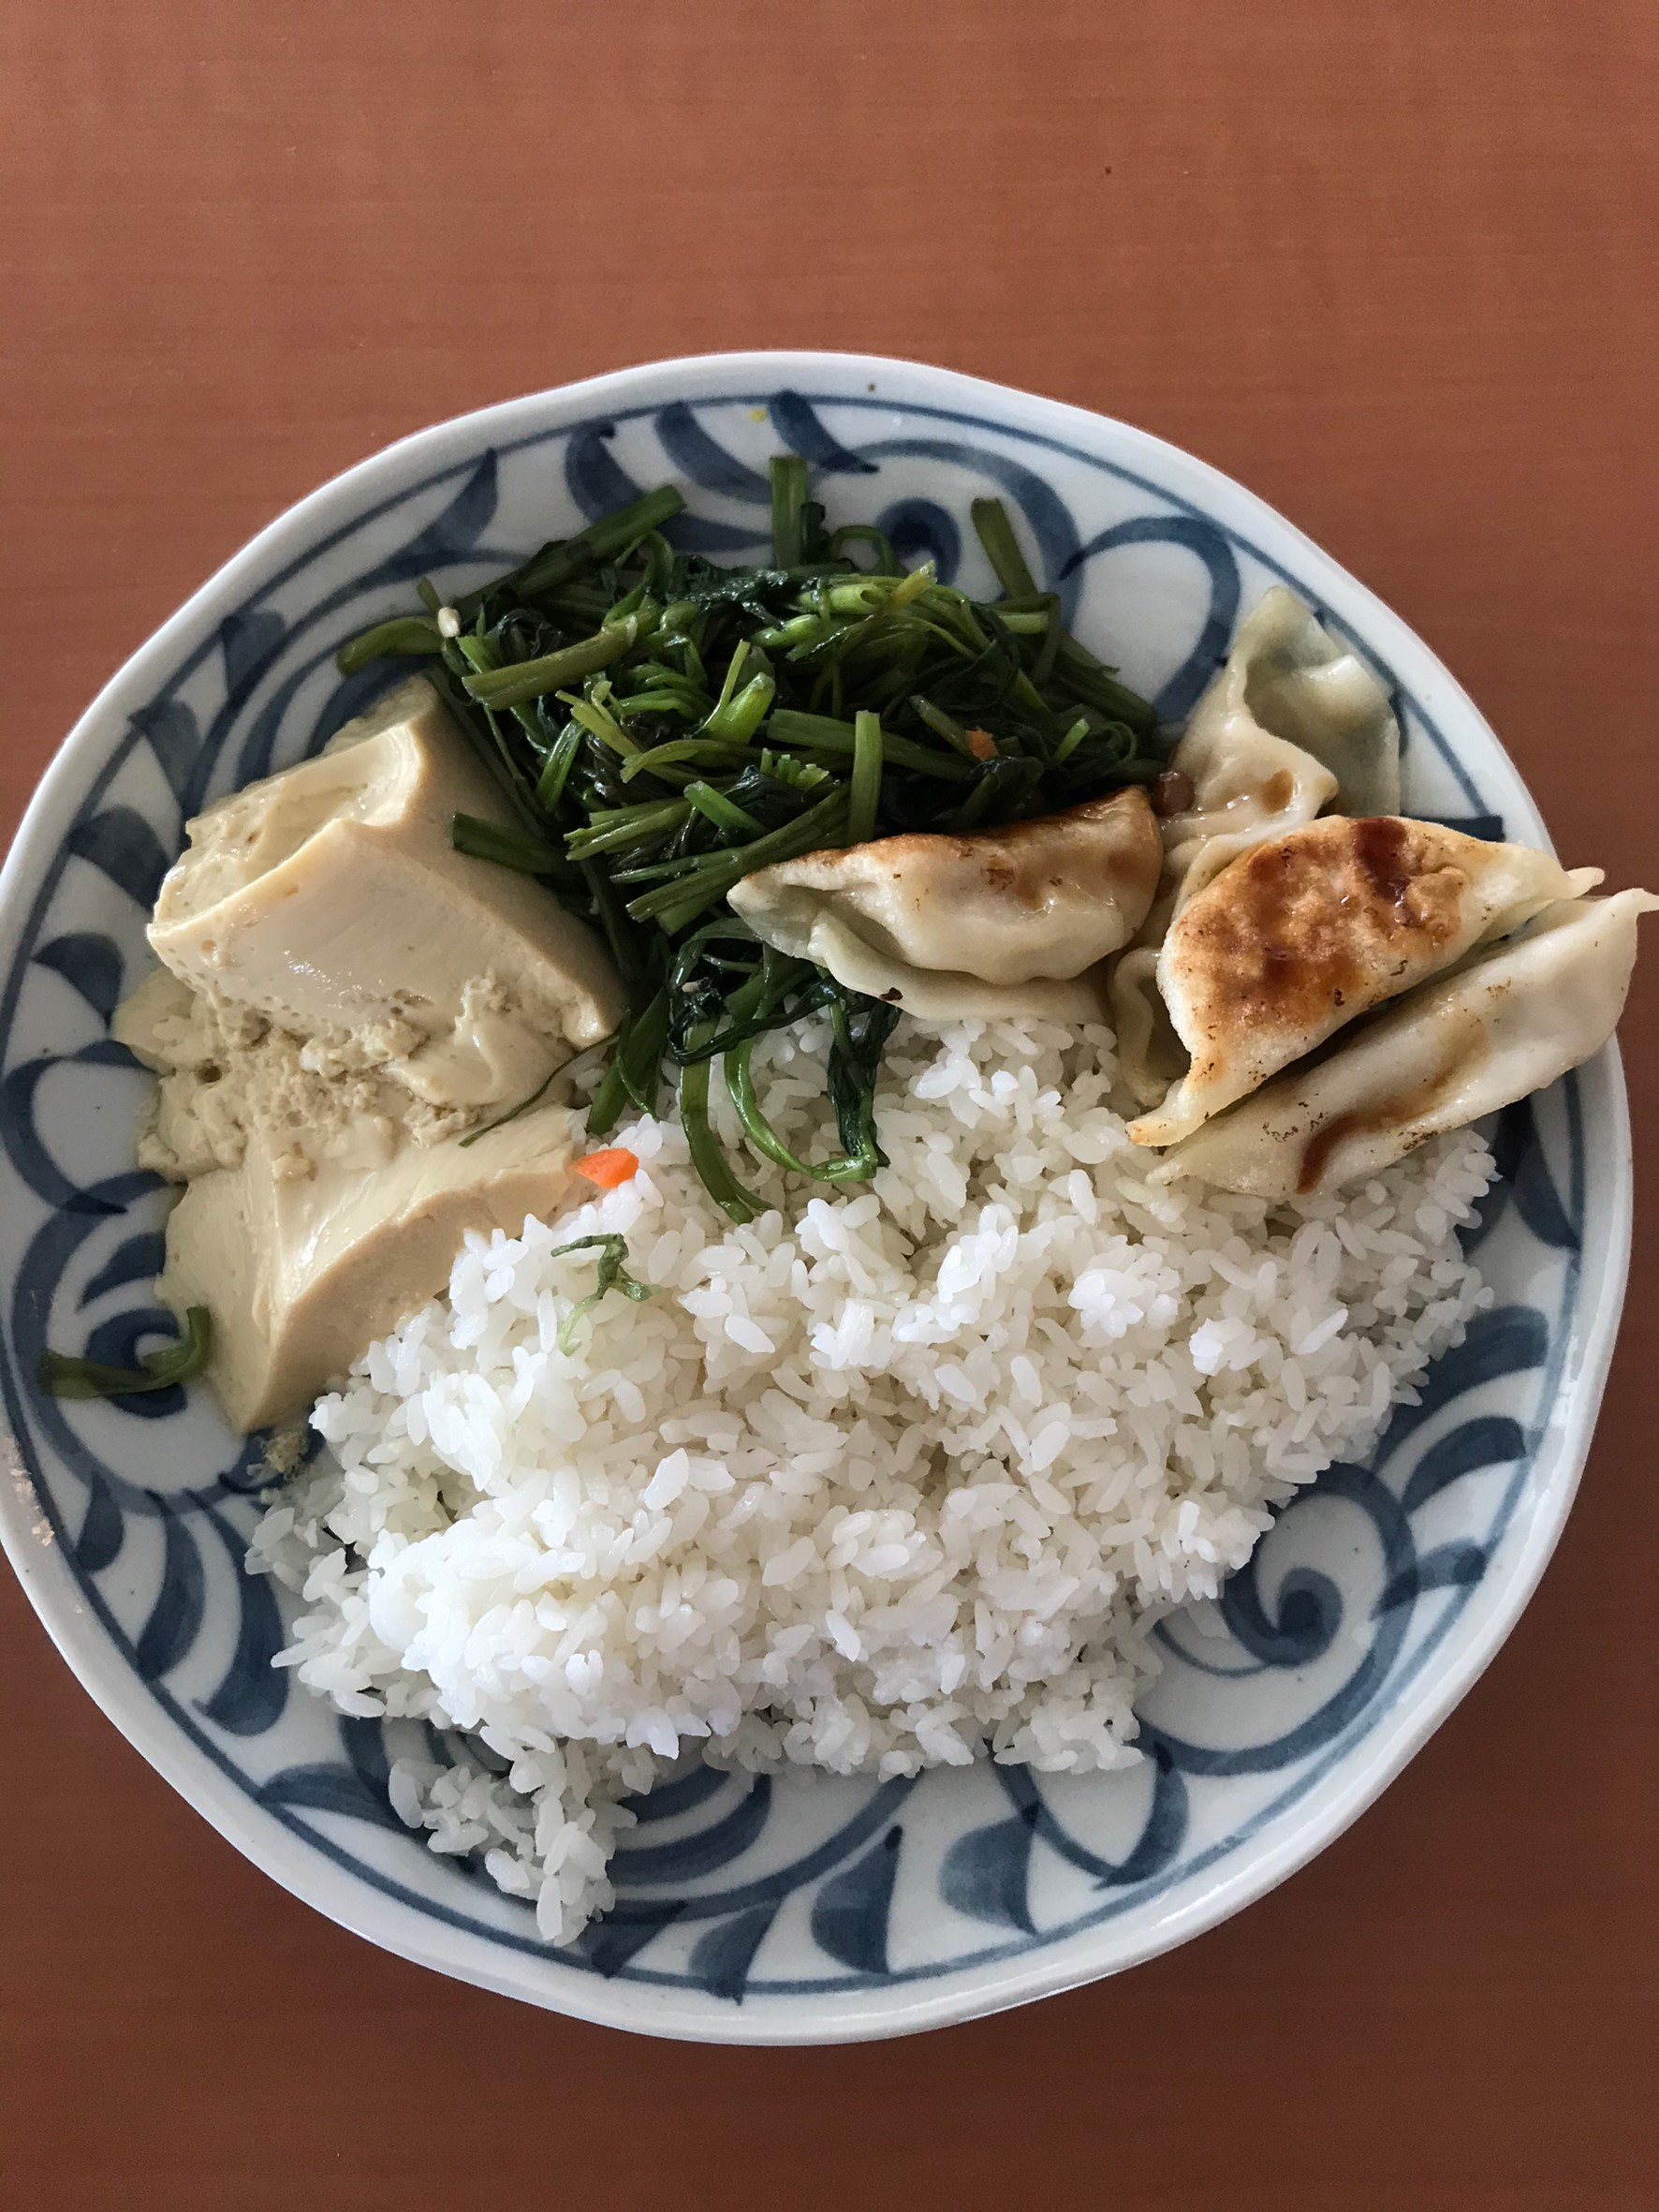fried_dumplings: (831, 725, 1598, 1164)
rice: (371, 1241, 1300, 1745)
water_spinach: (575, 580, 1018, 866)
